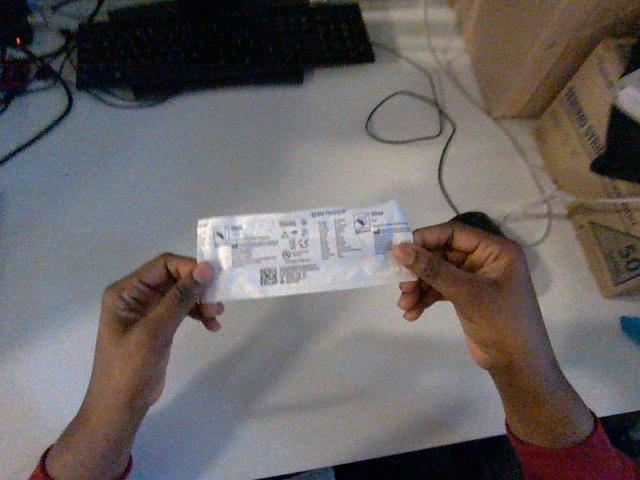syringe: (197, 201, 412, 300)
